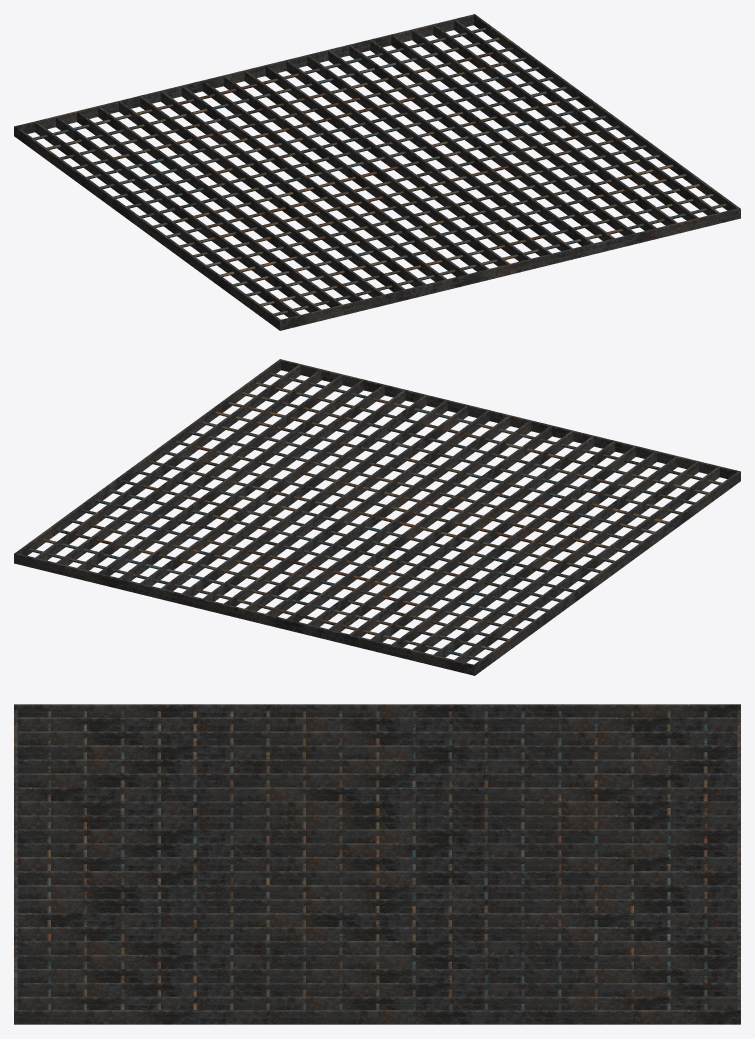
File: Basement_Corridor_C_Grating_Floor_2x2m.glb
The picture shows the model from 3 angles, top to bottom: view 1: azimuth 30°, elevation 25°; view 2: azimuth 150°, elevation 25°; view 3: azimuth 270°, elevation 25°; orthographic projection. The views are drawn at different scales.
Visible parts, largest first — view 1: Basement_Corridor_C_Grating_Floor_2x2m; view 2: Basement_Corridor_C_Grating_Floor_2x2m; view 3: Basement_Corridor_C_Grating_Floor_2x2m.
Part boxes in pixels (box(x1,y1,x2,y2)): Basement_Corridor_C_Grating_Floor_2x2m: box(14, 14, 740, 330); Basement_Corridor_C_Grating_Floor_2x2m: box(14, 359, 740, 675); Basement_Corridor_C_Grating_Floor_2x2m: box(14, 704, 740, 1024).
Bounding box in the file's own units: 2 × 0.04 × 2.
Materials: 2 (2 with a texture image).
